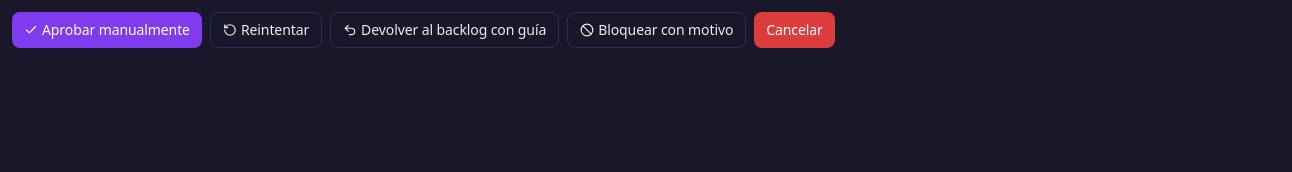
Test: TaskHumanActions › surfaces a rejected action instead of swallowing it
Click the button with test id "cancel-t-1" at (795, 30), box [754, 12, 835, 48]
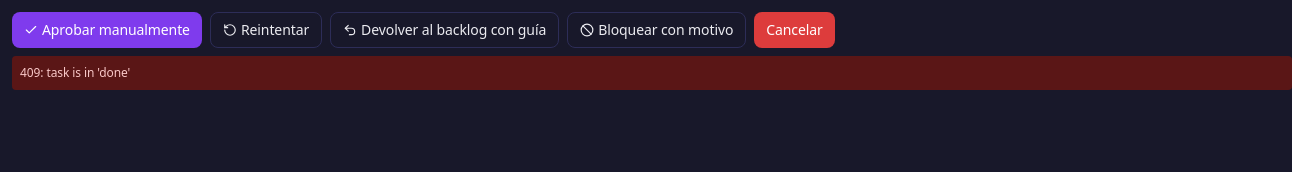
Expected: the text with test id "action-error" shows "409", [20, 64, 130, 81]
